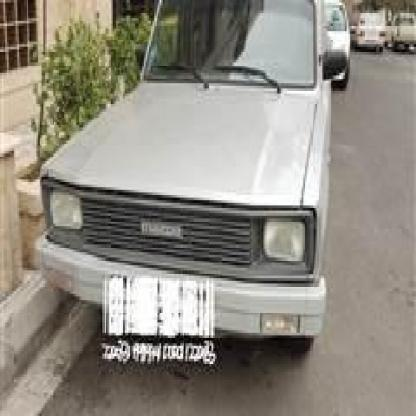Car: (29, 0, 322, 364), (305, 0, 361, 81), (357, 0, 384, 49), (391, 5, 416, 57)
